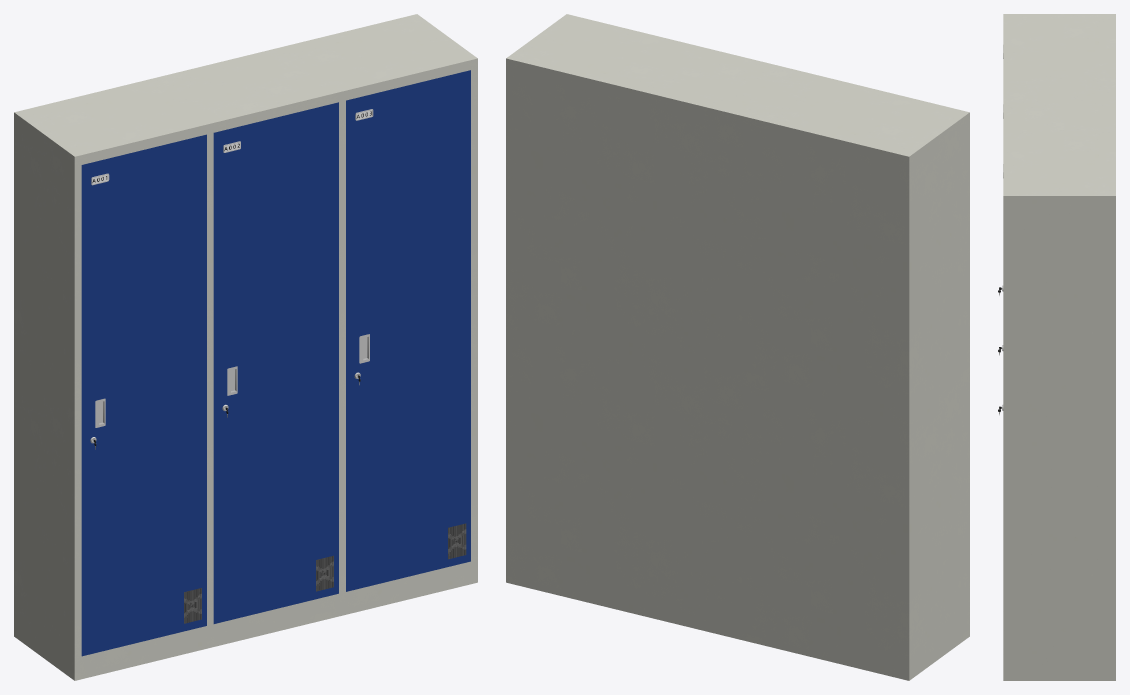
File: SM_更衣室柜子001.fbx
3 views of the same model, side by side, from view 1: azimuth 30°, elevation 25°; view 2: azimuth 150°, elevation 25°; view 3: azimuth 270°, elevation 25° (orthographic). The views are drawn at different scales.
Visible parts, largest first — view 1: SM_更衣室柜子001; view 2: SM_更衣室柜子001; view 3: SM_更衣室柜子001.
Part boxes in pixels (x1,y1,x2,y2): SM_更衣室柜子001: (14, 14, 477, 680); SM_更衣室柜子001: (506, 14, 969, 680); SM_更衣室柜子001: (998, 14, 1115, 680).
Bounding box in the file's own units: 1610 × 2000 × 440.
